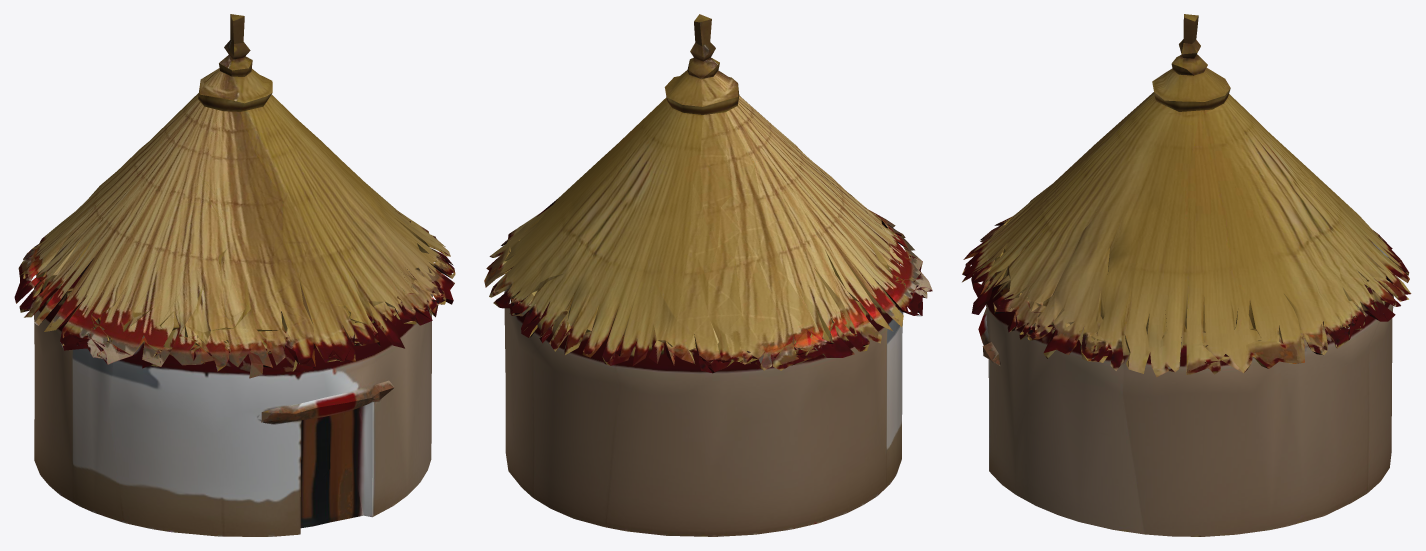
Rendered from andes_casa_bahareque.glb.
3 renders of one model, left to right at view 1: azimuth 30°, elevation 25°; view 2: azimuth 150°, elevation 25°; view 3: azimuth 270°, elevation 25°, orthographic.
Visible parts, largest first — view 1: geometry_0; view 2: geometry_0; view 3: geometry_0.
Part boxes in pixels (x1=…): geometry_0: x1=14, y1=14, x2=455, y2=536; geometry_0: x1=484, y1=14, x2=932, y2=536; geometry_0: x1=962, y1=14, x2=1411, y2=536.
Size of the model in its own units: 1.4 by 1.5 by 1.39.
1 material, 1 textured.
